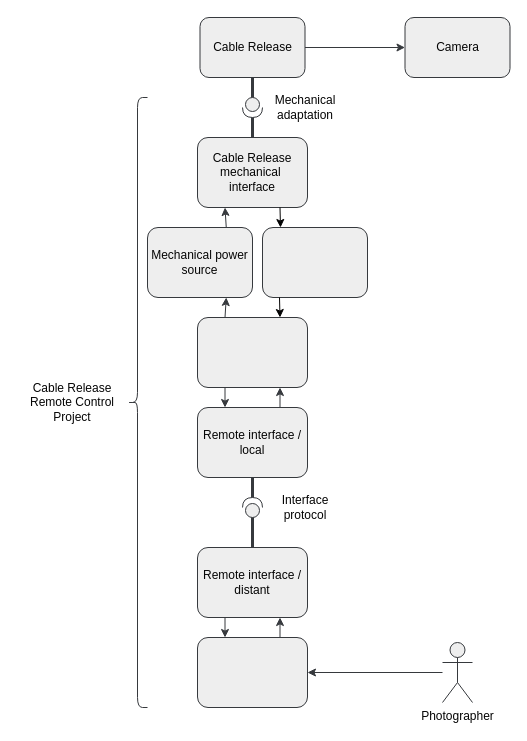
This 527x741 diagram has some shape labels left out. The shapes that lost their labels are listed below. From the top down, each one's centre as x and y in pixels, then its label:
At pixel 315 262: "Force sensor".
At pixel 252 352: "Command / Logic".
At pixel 252 672: "User interface".
